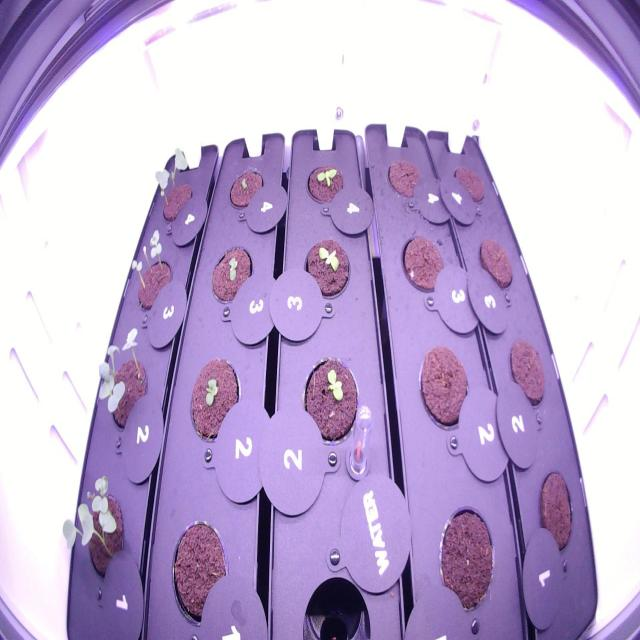germination: (57, 468, 132, 590), (92, 321, 154, 446), (294, 348, 364, 454), (181, 352, 246, 450), (120, 220, 178, 324), (149, 141, 201, 230), (205, 236, 256, 309), (222, 164, 268, 222)
pod: (430, 502, 505, 624), (164, 512, 238, 630), (413, 339, 476, 438), (530, 464, 580, 563), (396, 230, 452, 308), (502, 330, 550, 416), (473, 232, 518, 296), (381, 155, 428, 209), (447, 161, 490, 212)
young: (299, 232, 355, 303), (300, 155, 350, 217)
